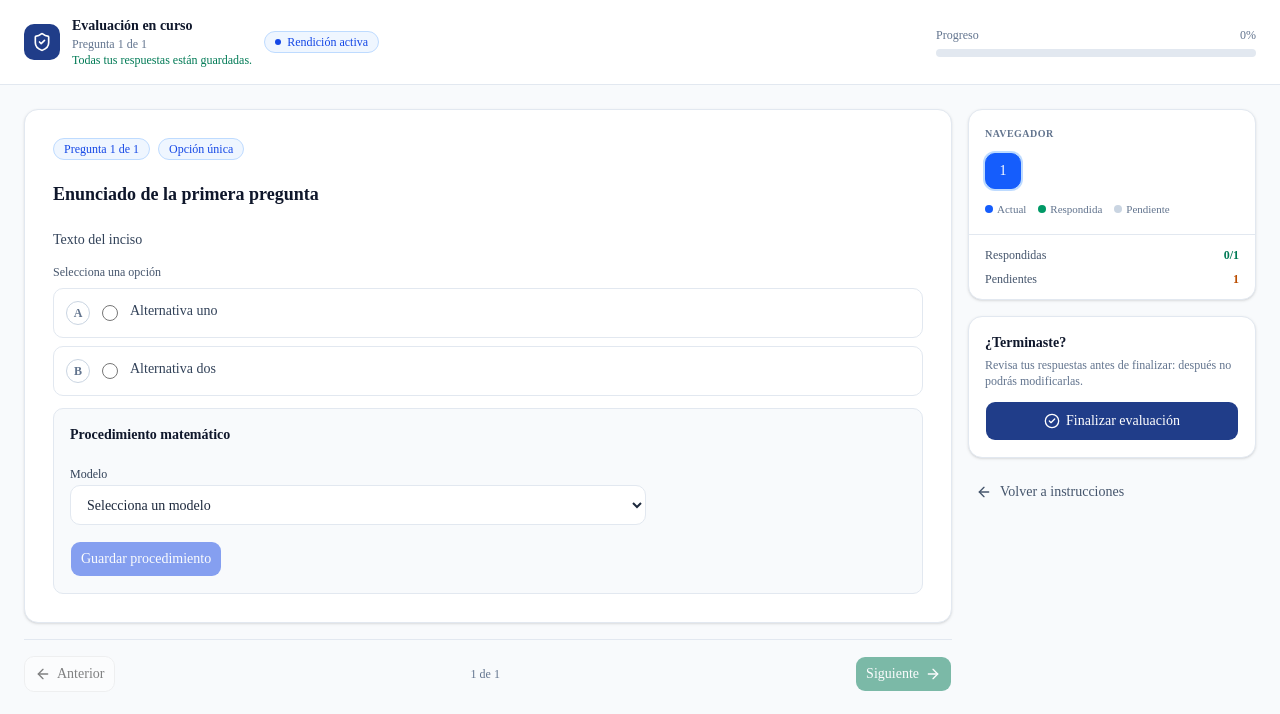
RendicionEvaluacion › muestra únicamente las fórmulas permitidas del modelo seleccionado
Select "Modelo cuadrático" in the dropdown named "Modelo del inciso a" at [358, 505], box x1=70 y1=485 x2=646 y2=525
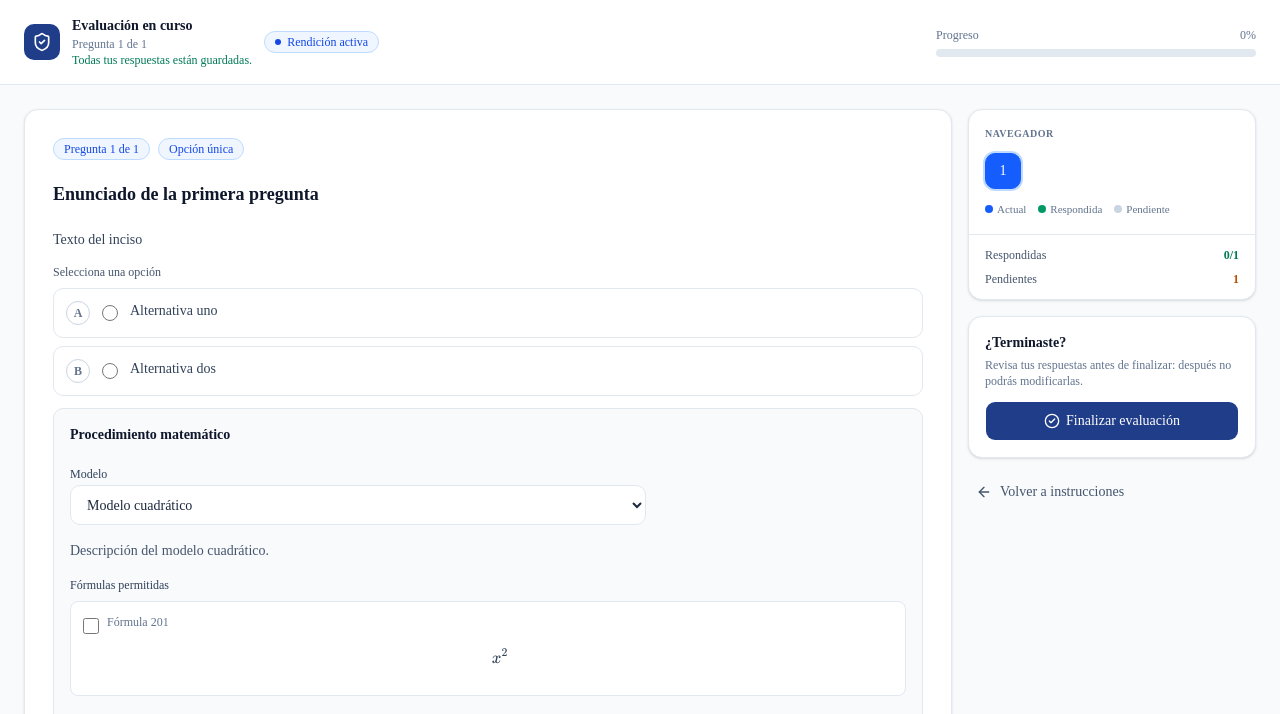
expect the checkbox named "Seleccionar fórmula 201" is shown: met, box x1=83 y1=618 x2=99 y2=634
expect the text "Descripción del modelo cuadrático." is shown: met, box x1=70 y1=543 x2=269 y2=558
